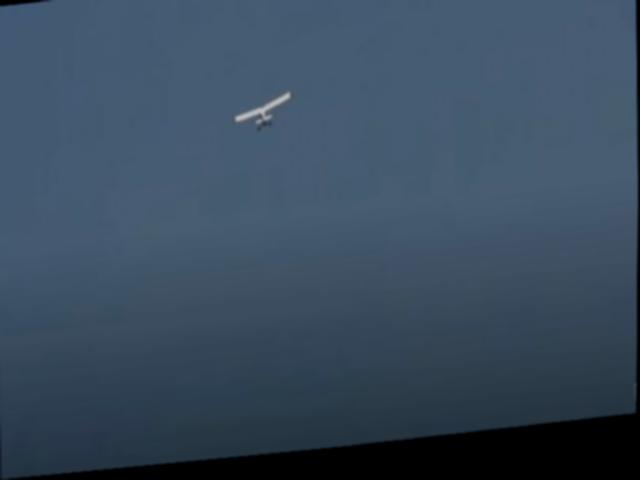uav: (233, 92, 293, 147)
